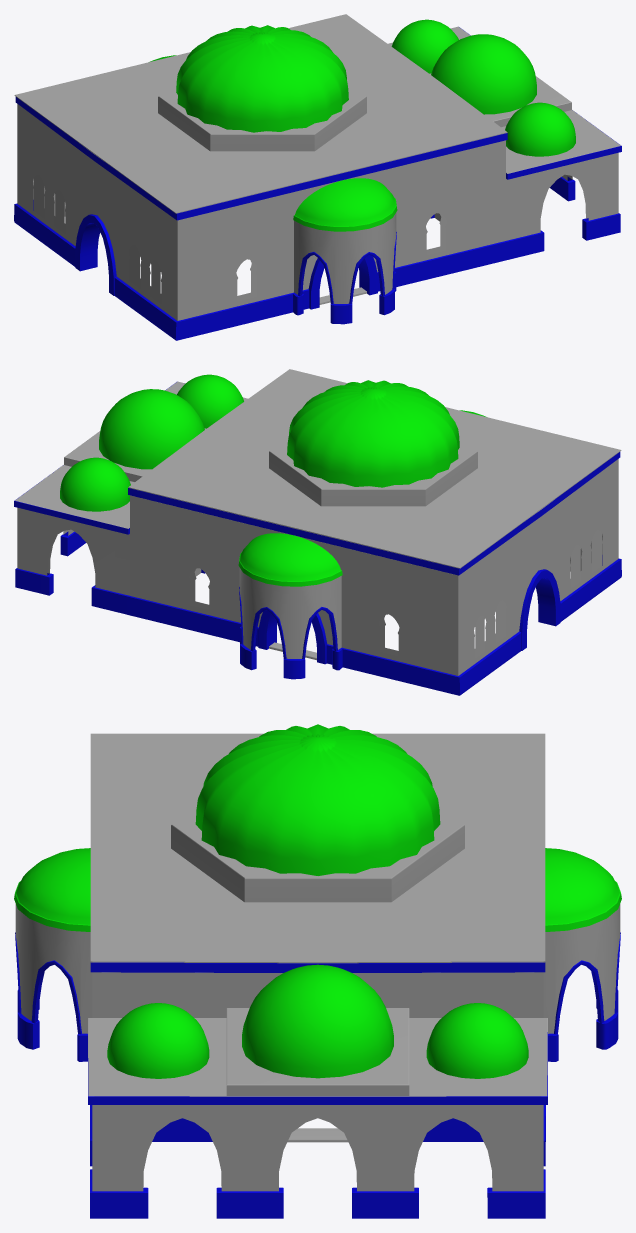
The model's file is Dom_znati_vhodnaa_arka.fbx.
3 views of the same model, one above another, from view 1: azimuth 30°, elevation 25°; view 2: azimuth 150°, elevation 25°; view 3: azimuth 270°, elevation 25° (orthographic). The views are drawn at different scales.
Parts seen in each view (by area): view 1: Dom_znati_vhodnaa_arka; view 2: Dom_znati_vhodnaa_arka; view 3: Dom_znati_vhodnaa_arka.
Boxes of the visible parts, <box> form: Dom_znati_vhodnaa_arka: <box>14,14,621,340</box>; Dom_znati_vhodnaa_arka: <box>14,369,621,695</box>; Dom_znati_vhodnaa_arka: <box>14,724,621,1218</box>.
Size of the model in its own units: 130 by 57.2 by 109.
